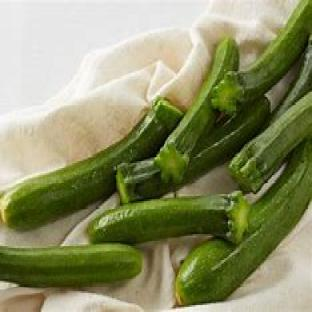Zucchini: (0, 99, 182, 228), (176, 141, 311, 305), (116, 99, 269, 202), (155, 39, 238, 183), (88, 193, 249, 244), (230, 92, 311, 192), (0, 245, 141, 287), (271, 35, 311, 122)
